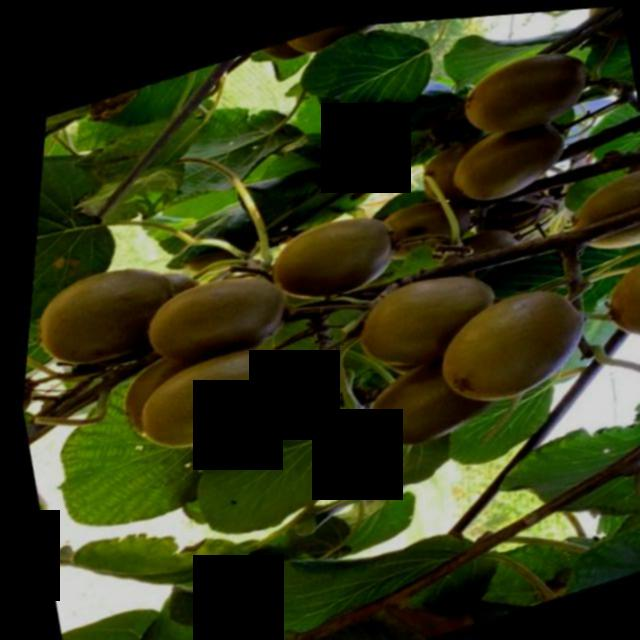kiwi: (124, 329, 310, 460), (430, 274, 599, 416), (22, 238, 194, 375), (344, 253, 503, 379), (136, 254, 296, 374), (360, 337, 513, 457), (259, 200, 402, 311), (445, 41, 590, 146), (438, 105, 572, 211), (555, 167, 640, 267), (589, 250, 640, 356)
